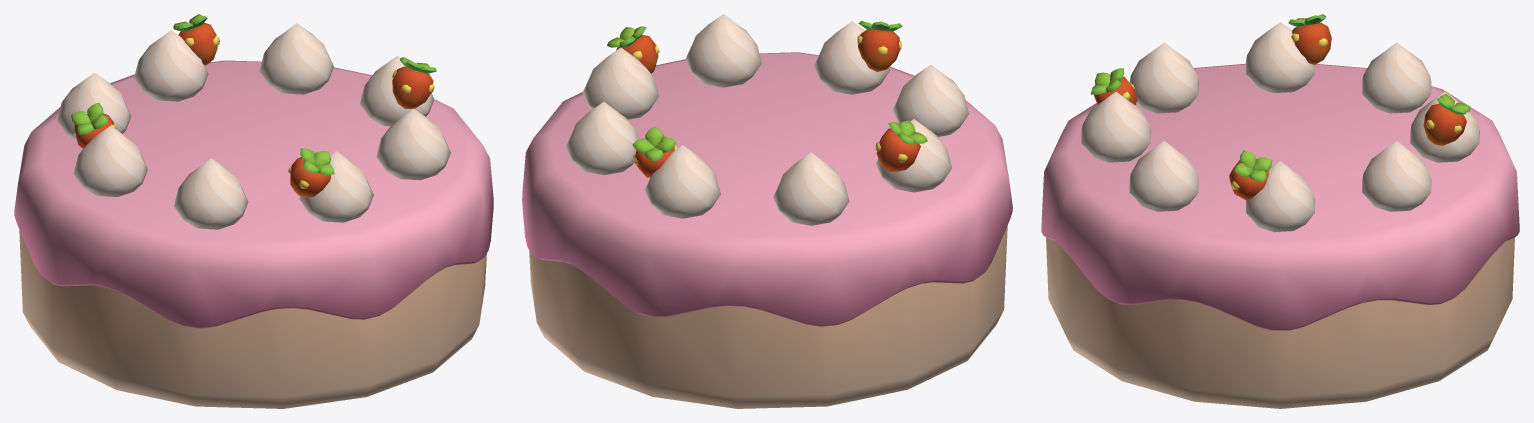
Rendered from cake_strawberry.glb.
The picture shows the model from 3 angles, left to right: view 1: azimuth 30°, elevation 25°; view 2: azimuth 150°, elevation 25°; view 3: azimuth 270°, elevation 25°; orthographic projection. The views are drawn at different scales.
Parts seen in each view (by area): view 1: cake_strawberry; view 2: cake_strawberry; view 3: cake_strawberry.
Boxes of the visible parts, left/top/right/bottom form: cake_strawberry: left=14, top=14, right=493, bottom=408; cake_strawberry: left=522, top=14, right=1012, bottom=408; cake_strawberry: left=1041, top=14, right=1519, bottom=408.
Size of the model in its own units: 1.22 by 0.6687 by 1.22.
Materials: 1 (1 with a texture image).
